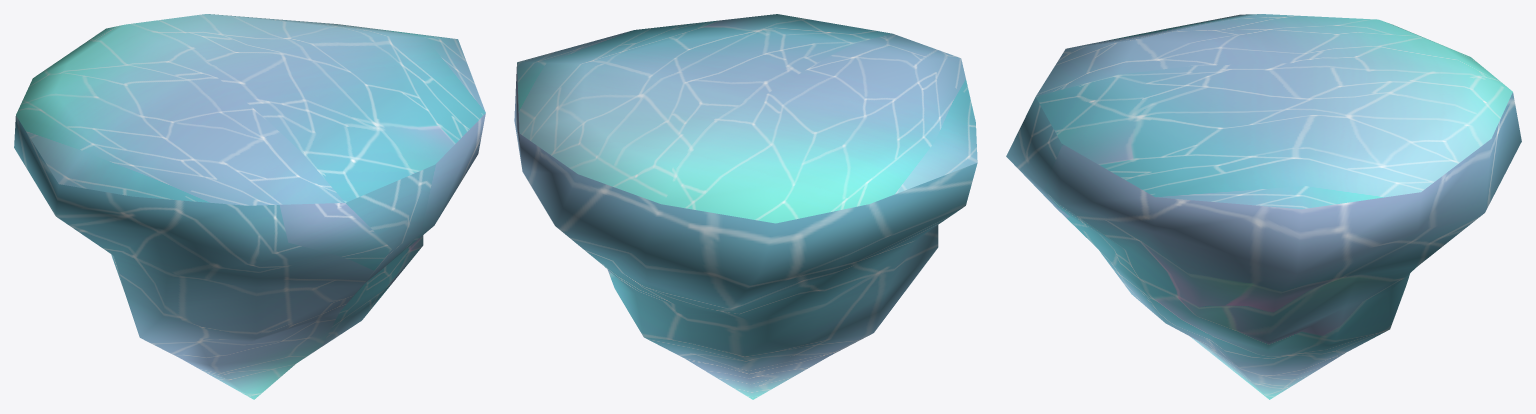
File: crystal_base.fbx
3 renders of one model, left to right at view 1: azimuth 30°, elevation 25°; view 2: azimuth 150°, elevation 25°; view 3: azimuth 270°, elevation 25°, orthographic.
Visible parts, largest first — view 1: crystal_base; view 2: crystal_base; view 3: crystal_base.
Part boxes in pixels (<box>): crystal_base: <box>14,14,485,399</box>; crystal_base: <box>514,14,977,399</box>; crystal_base: <box>1006,14,1521,399</box>.
Size of the model in its own units: 5.74 by 4.05 by 5.82.
Materials: 1 (1 with a texture image).
